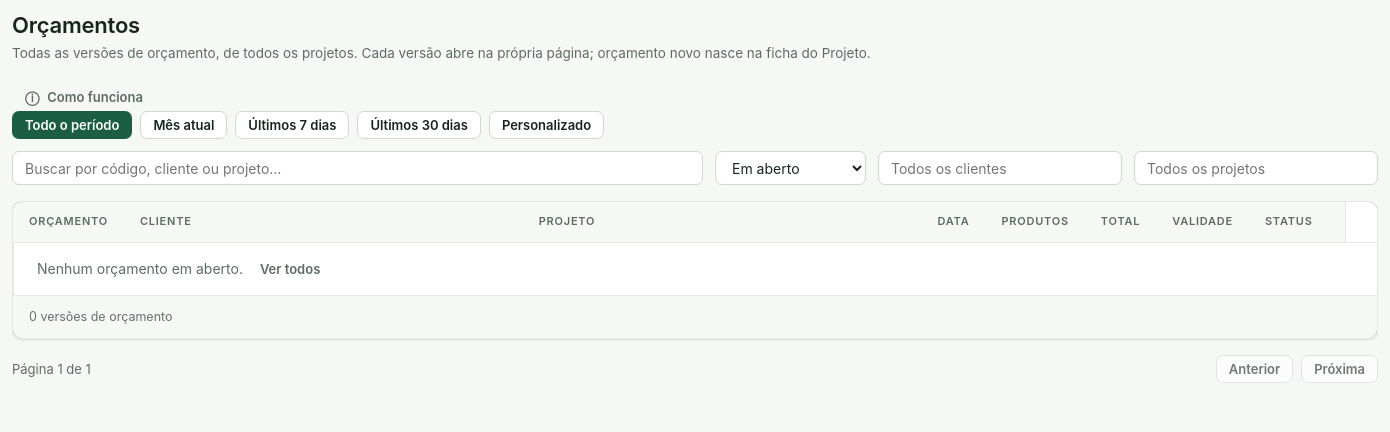
Test case: estados da tabela › fila vazia não é base vazia: oferece o histórico, e só Todos sem recorte diz que não há orçamento
The width and height of the screenshot is (1390, 432).
Expected: the text "Nenhum orçamento em aberto. Ver todos" is shown, [37,255,333,283]
Click the button "Ver todos" at x=290, y=269, box [247,255,333,283]
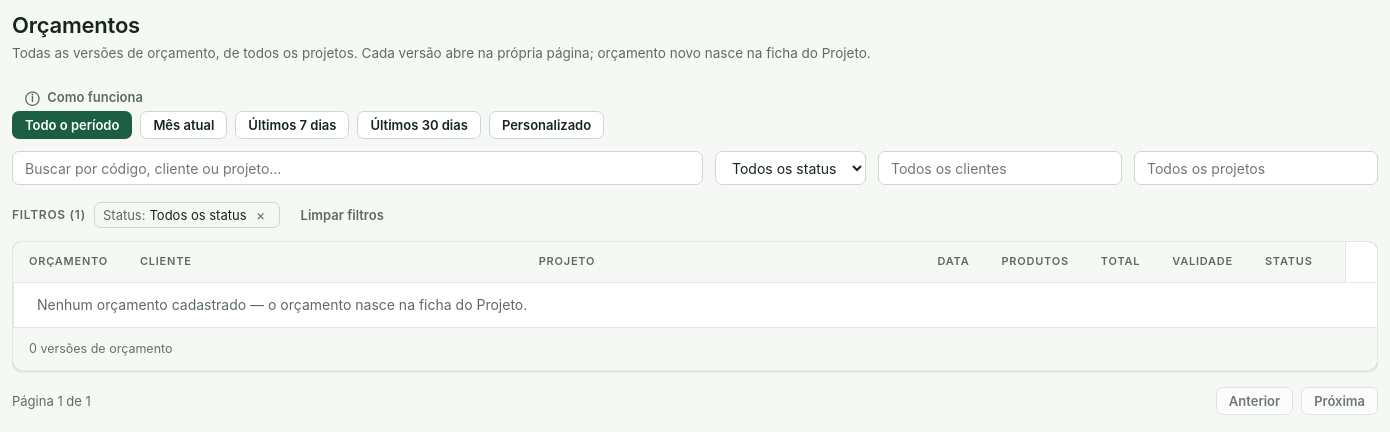
Expected: the text "Nenhum orçamento cadastrado — o orçamento nasce na ficha do Projeto." is shown, [37,296,527,313]
